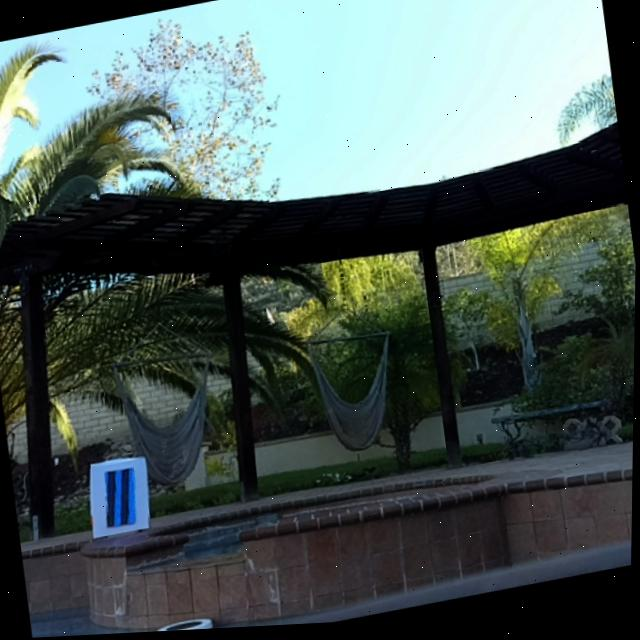led: (102, 468, 142, 532)
